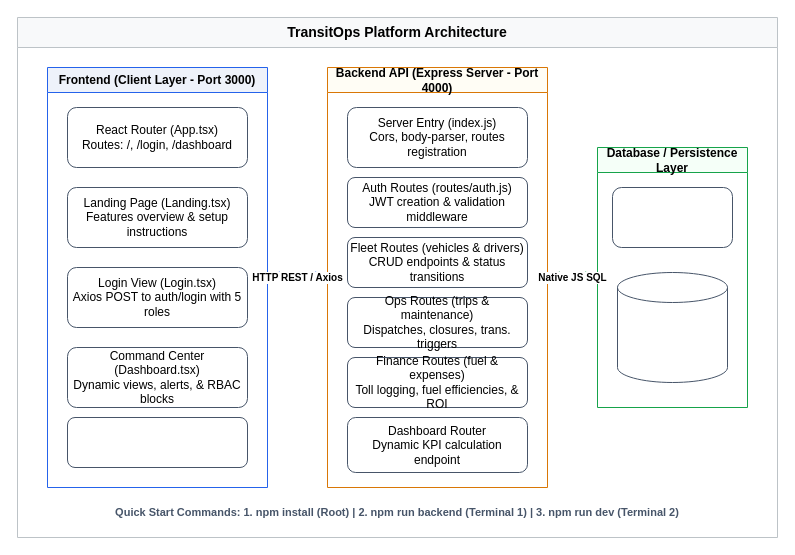
Image size: 795x555. Some labels were removed from this diagram. Here are the shapes that lost their labels. From the top down, the centre of each, then its label:
At [672,217]: "DB Controller (db.js) Emulated SQLite Controller".
At [672,327]: "Local Store (data.json) Persisted users, vehicles, trips, maintenance tables".
At [157,442]: "Global Theme (styles.css) Clean Premium White / Light design".
